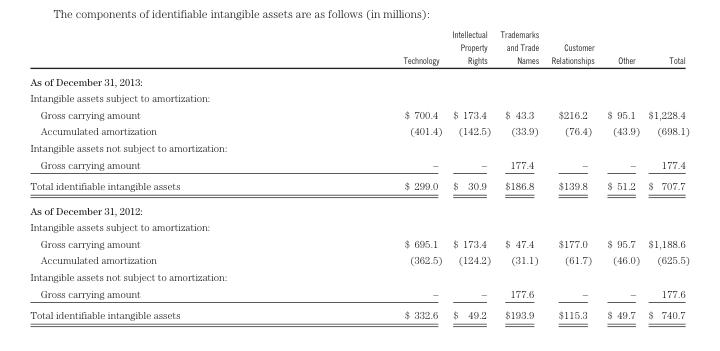table: (29, 28, 689, 320)
table column: (29, 28, 290, 320), (290, 28, 446, 320), (544, 28, 600, 320), (494, 28, 544, 320), (446, 28, 494, 320), (643, 28, 689, 320), (600, 28, 643, 320)
table column header: (29, 28, 689, 70)
table projected row header: (29, 197, 689, 218), (29, 70, 689, 89), (29, 89, 689, 105), (29, 139, 689, 155), (29, 218, 689, 234), (29, 268, 689, 284)
table row: (29, 28, 689, 70), (29, 174, 689, 197), (29, 197, 689, 218), (29, 70, 689, 89), (29, 155, 689, 174), (29, 284, 689, 303), (29, 105, 689, 122), (29, 122, 689, 139), (29, 234, 689, 251), (29, 251, 689, 268), (29, 303, 689, 320), (29, 89, 689, 105), (29, 139, 689, 155), (29, 218, 689, 234), (29, 268, 689, 284)
